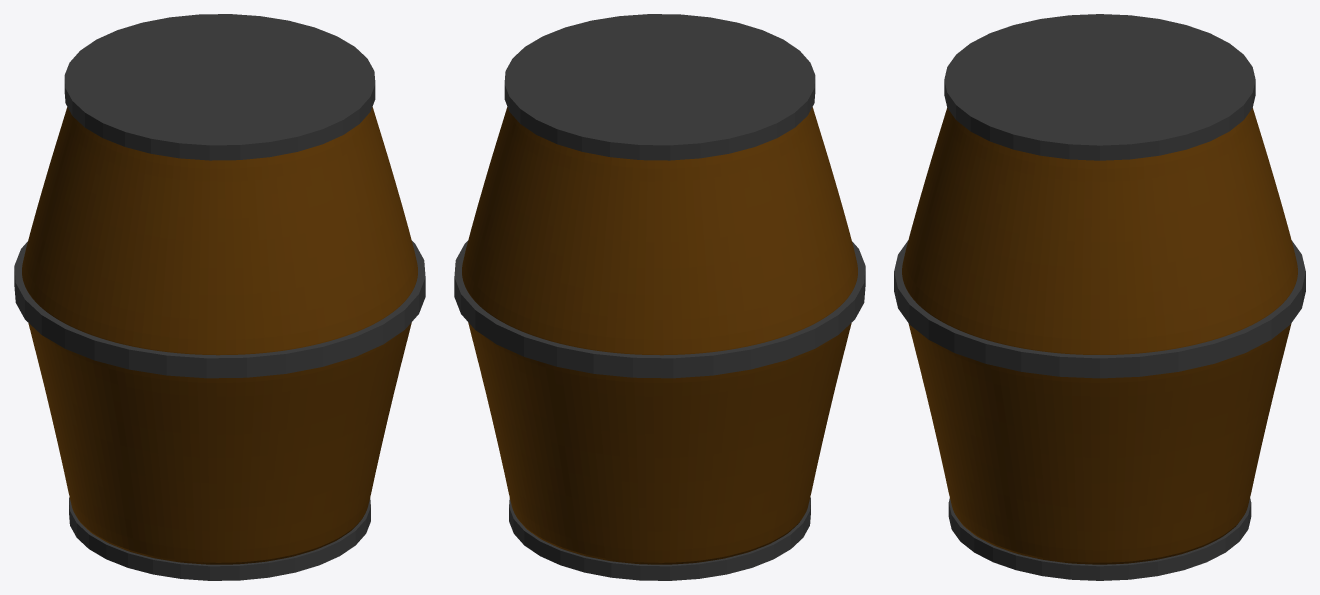
File: barrel.fbx
3 renders of one model, left to right at view 1: azimuth 30°, elevation 25°; view 2: azimuth 150°, elevation 25°; view 3: azimuth 270°, elevation 25°, orthographic.
Parts seen in each view (by area): view 1: Cylinder, Cylinder.001; view 2: Cylinder, Cylinder.001; view 3: Cylinder, Cylinder.001.
Part boxes in pixels (bbox=[...]): Cylinder: bbox=[22, 107, 417, 564]; Cylinder.001: bbox=[14, 14, 425, 580]; Cylinder: bbox=[462, 107, 857, 564]; Cylinder.001: bbox=[454, 14, 865, 580]; Cylinder: bbox=[902, 108, 1297, 564]; Cylinder.001: bbox=[894, 14, 1305, 580].
Size of the model in its own units: 278 by 325 by 278.
